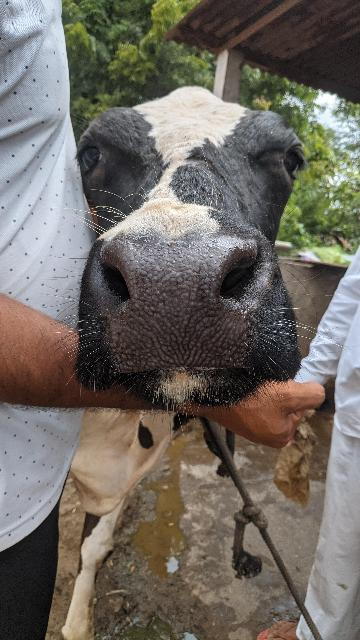Muzzle: (112, 241, 252, 371)
